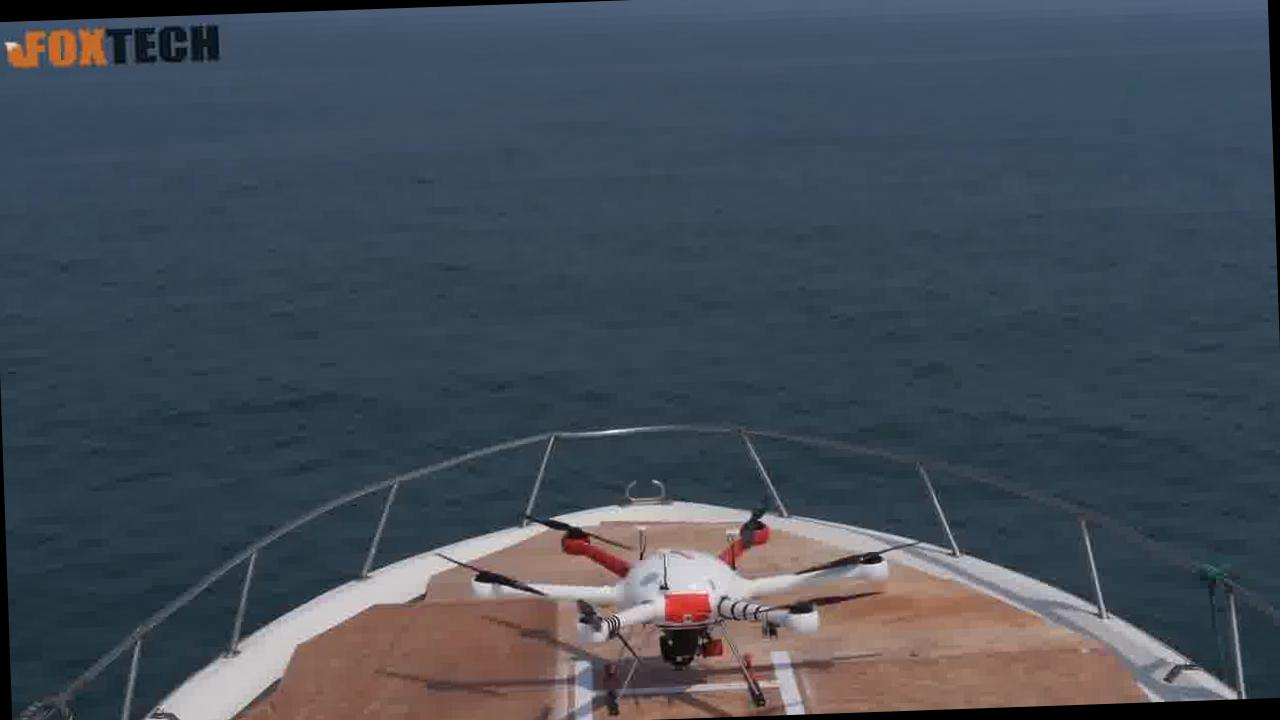drone: (439, 489, 924, 719)
